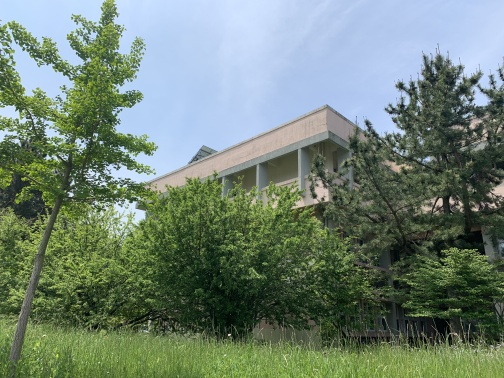College Of Education: (134, 99, 486, 262)
